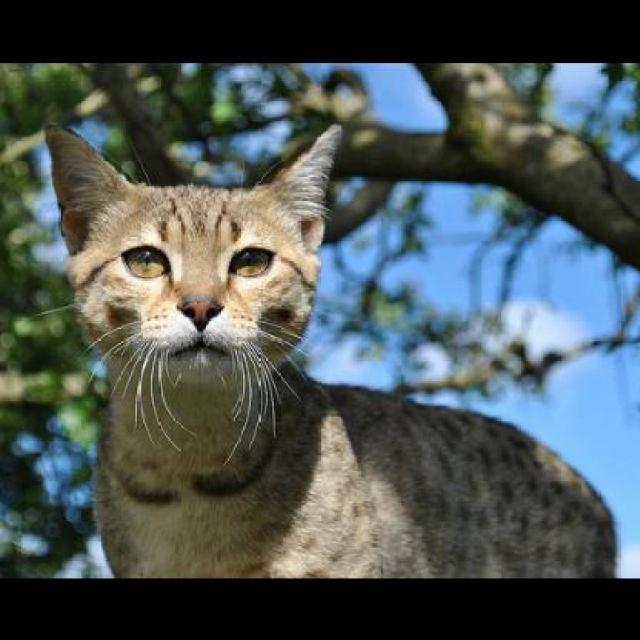unauthorized: (37, 119, 618, 578)
